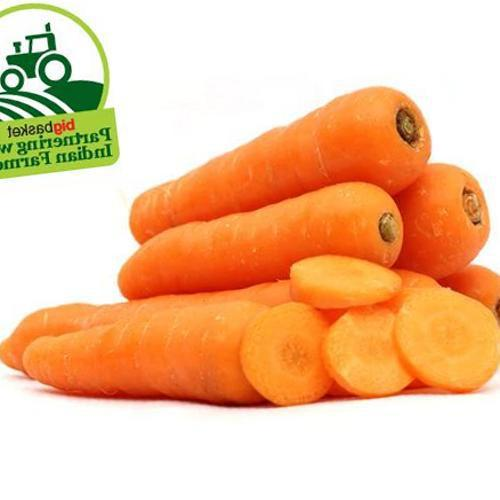carrot: (116, 88, 498, 305), (2, 298, 500, 401)
